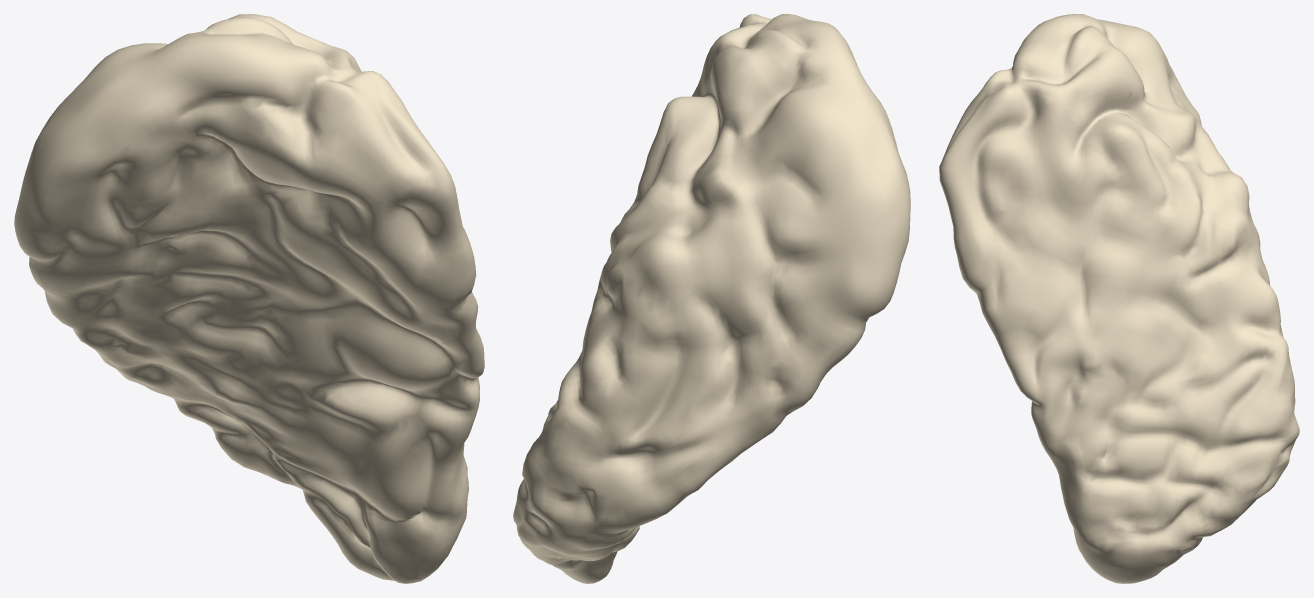
Rendered from 3d-vh-m-palatine-tonsil-l.glb.
The picture shows the model from 3 angles, left to right: view 1: azimuth 30°, elevation 25°; view 2: azimuth 150°, elevation 25°; view 3: azimuth 270°, elevation 25°; orthographic projection. The views are drawn at different scales.
Visible parts, largest first — view 1: VH_M_palatine_tonsil_L; view 2: VH_M_palatine_tonsil_L; view 3: VH_M_palatine_tonsil_L.
Part boxes in pixels (box(x1,y1,x2,y2)): VH_M_palatine_tonsil_L: box(14, 14, 484, 583); VH_M_palatine_tonsil_L: box(513, 14, 910, 583); VH_M_palatine_tonsil_L: box(939, 14, 1299, 583).
Size of the model in its own units: 0.0165 by 0.0242 by 0.0164.
